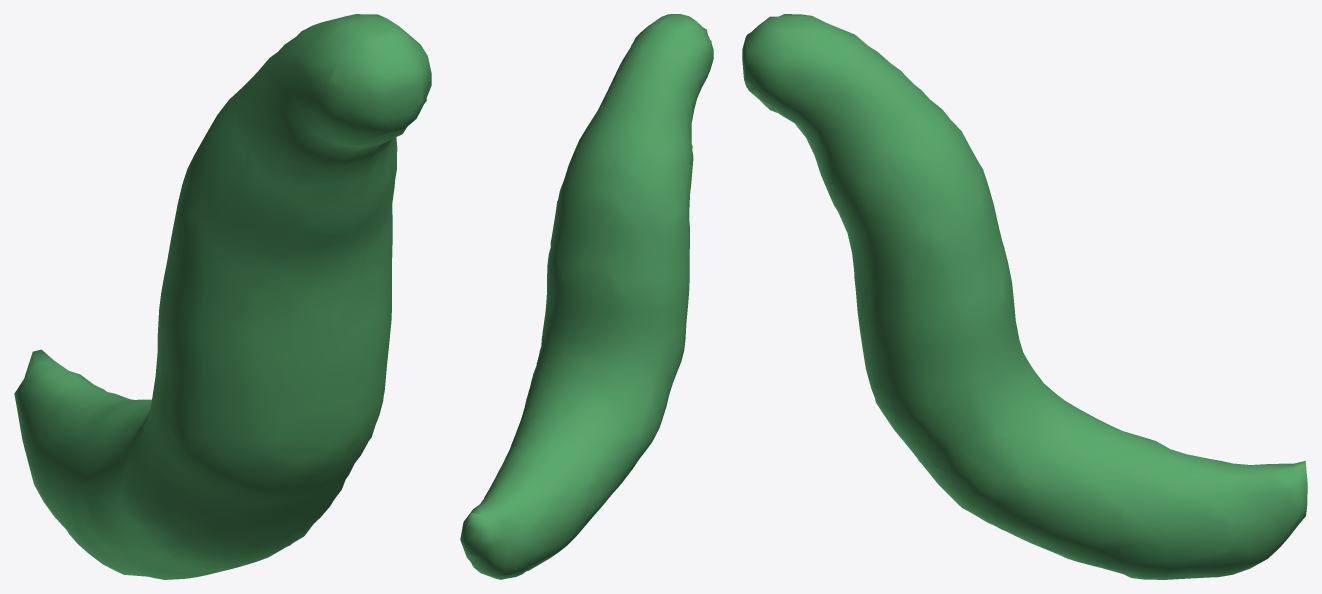
The model's file is desertFoxTail.fbx.
The picture shows the model from 3 angles, left to right: view 1: azimuth 30°, elevation 25°; view 2: azimuth 150°, elevation 25°; view 3: azimuth 270°, elevation 25°; orthographic projection. The views are drawn at different scales.
Visible parts, largest first — view 1: Desert Fox Tail; view 2: Desert Fox Tail; view 3: Desert Fox Tail.
Part boxes in pixels (x1,y1,x2,y2): Desert Fox Tail: (14,14,431,579); Desert Fox Tail: (460,14,713,579); Desert Fox Tail: (742,14,1307,579).
Size of the model in its own units: 15.01 by 48.63 by 45.1.
